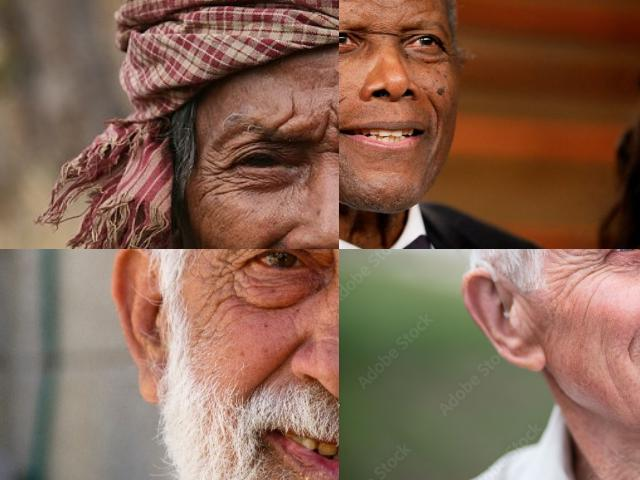crows_feet: (209, 251, 239, 311), (196, 154, 234, 190), (570, 249, 604, 279)
forehead: (272, 102, 296, 132)
frown_line: (316, 106, 339, 151), (368, 24, 402, 44)
gummy_smile: (246, 338, 296, 388), (259, 223, 290, 249), (427, 92, 445, 134), (631, 295, 640, 347)
masseter: (579, 295, 599, 324)
